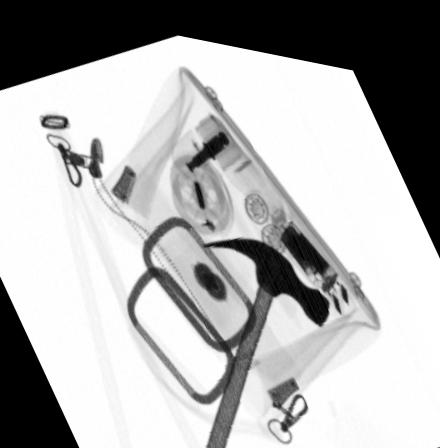Hammer: (203, 226, 330, 448)
